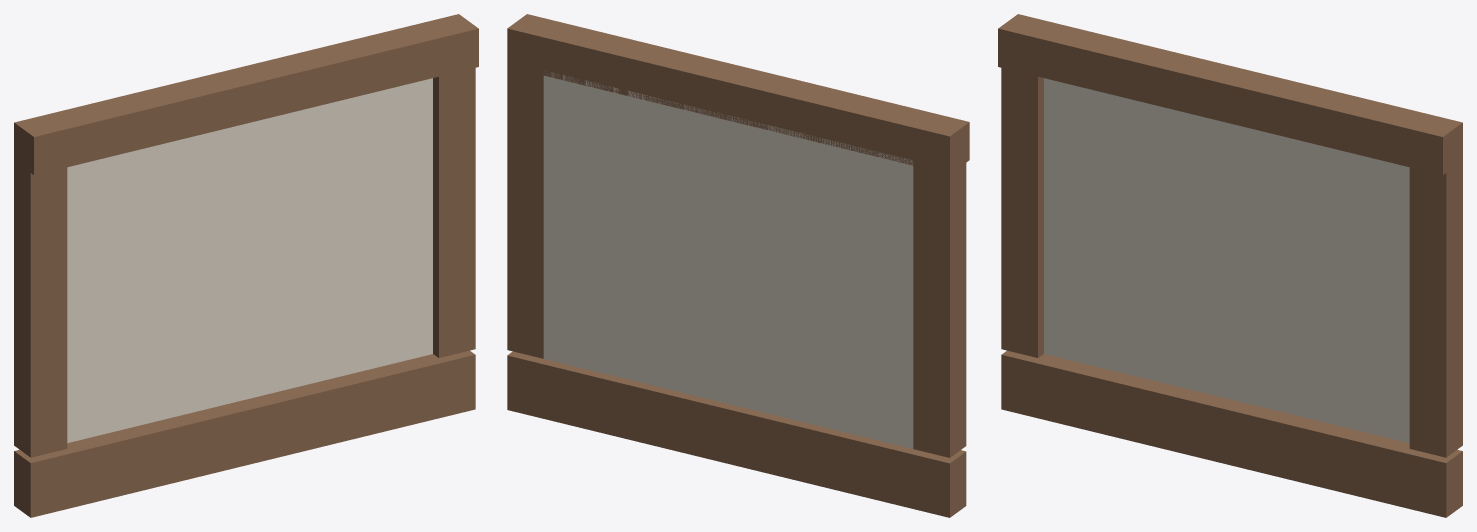
Rendered from corridor_wainscot.glb.
The picture shows the model from 3 angles, left to right: view 1: azimuth 30°, elevation 25°; view 2: azimuth 150°, elevation 25°; view 3: azimuth 330°, elevation 25°; orthographic projection.
Parts seen in each view (by area): view 1: corridor_wainscot; view 2: corridor_wainscot; view 3: corridor_wainscot.
Part boxes in pixels (x1=…): corridor_wainscot: x1=14, y1=14, x2=478, y2=517; corridor_wainscot: x1=507, y1=14, x2=969, y2=517; corridor_wainscot: x1=998, y1=14, x2=1462, y2=517.
Size of the model in its own units: 0.85 by 0.7 by 0.066.
